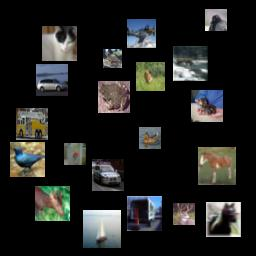airplane: (127, 19, 156, 48)
automobile: (92, 159, 124, 191), (36, 64, 68, 96)
bird: (10, 142, 45, 177), (139, 127, 161, 149), (205, 9, 227, 31), (64, 143, 86, 165)
cat: (42, 26, 77, 61), (191, 90, 223, 122)
deer: (35, 186, 70, 221), (173, 46, 208, 81), (136, 62, 165, 91), (173, 203, 195, 225)
frog: (98, 81, 130, 113), (103, 49, 122, 68)
ship: (83, 210, 121, 248)
truck: (127, 196, 162, 231), (16, 108, 48, 140)
